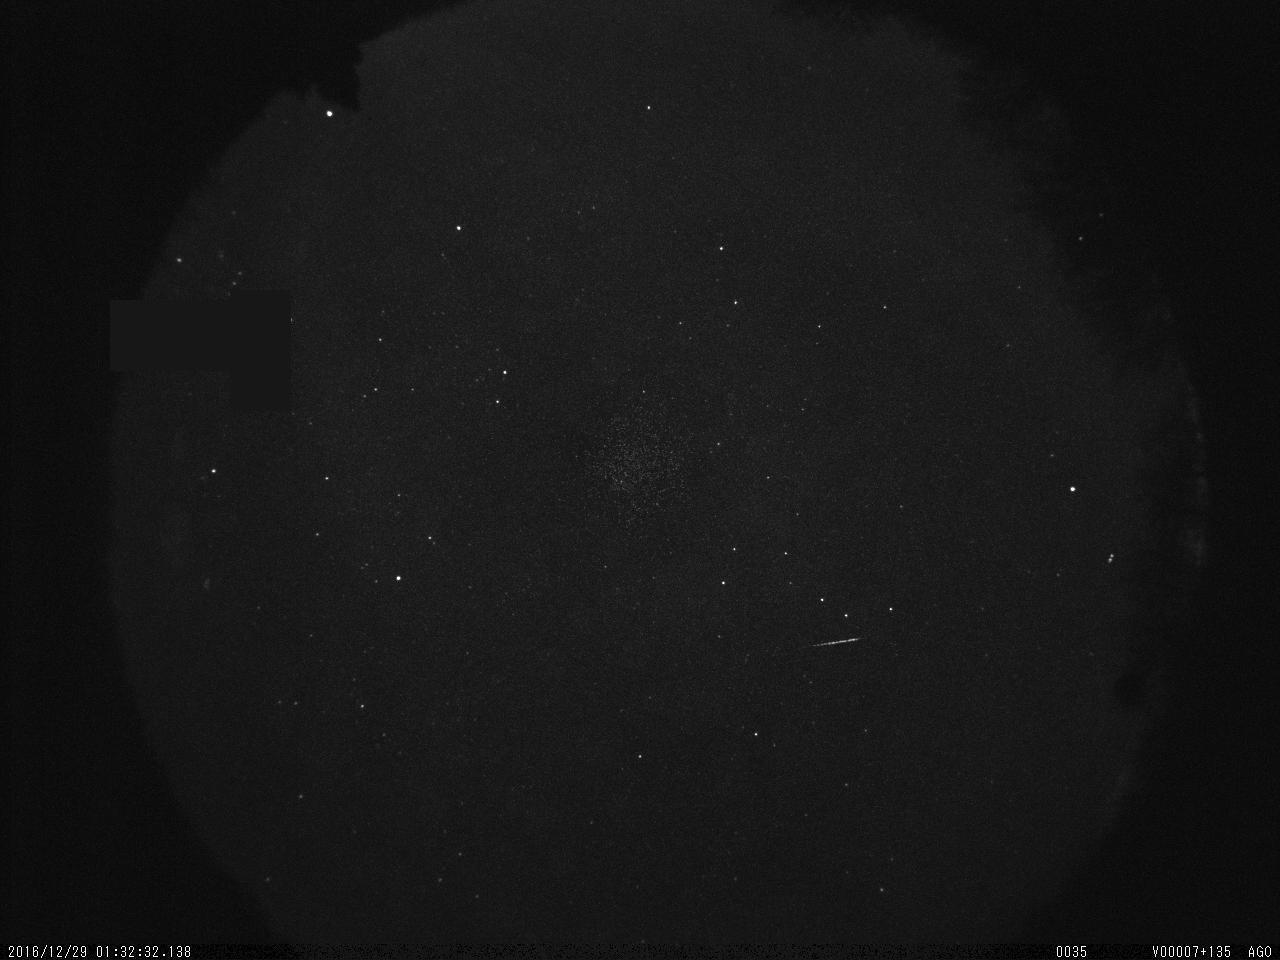meteor: (787, 624, 883, 664)
